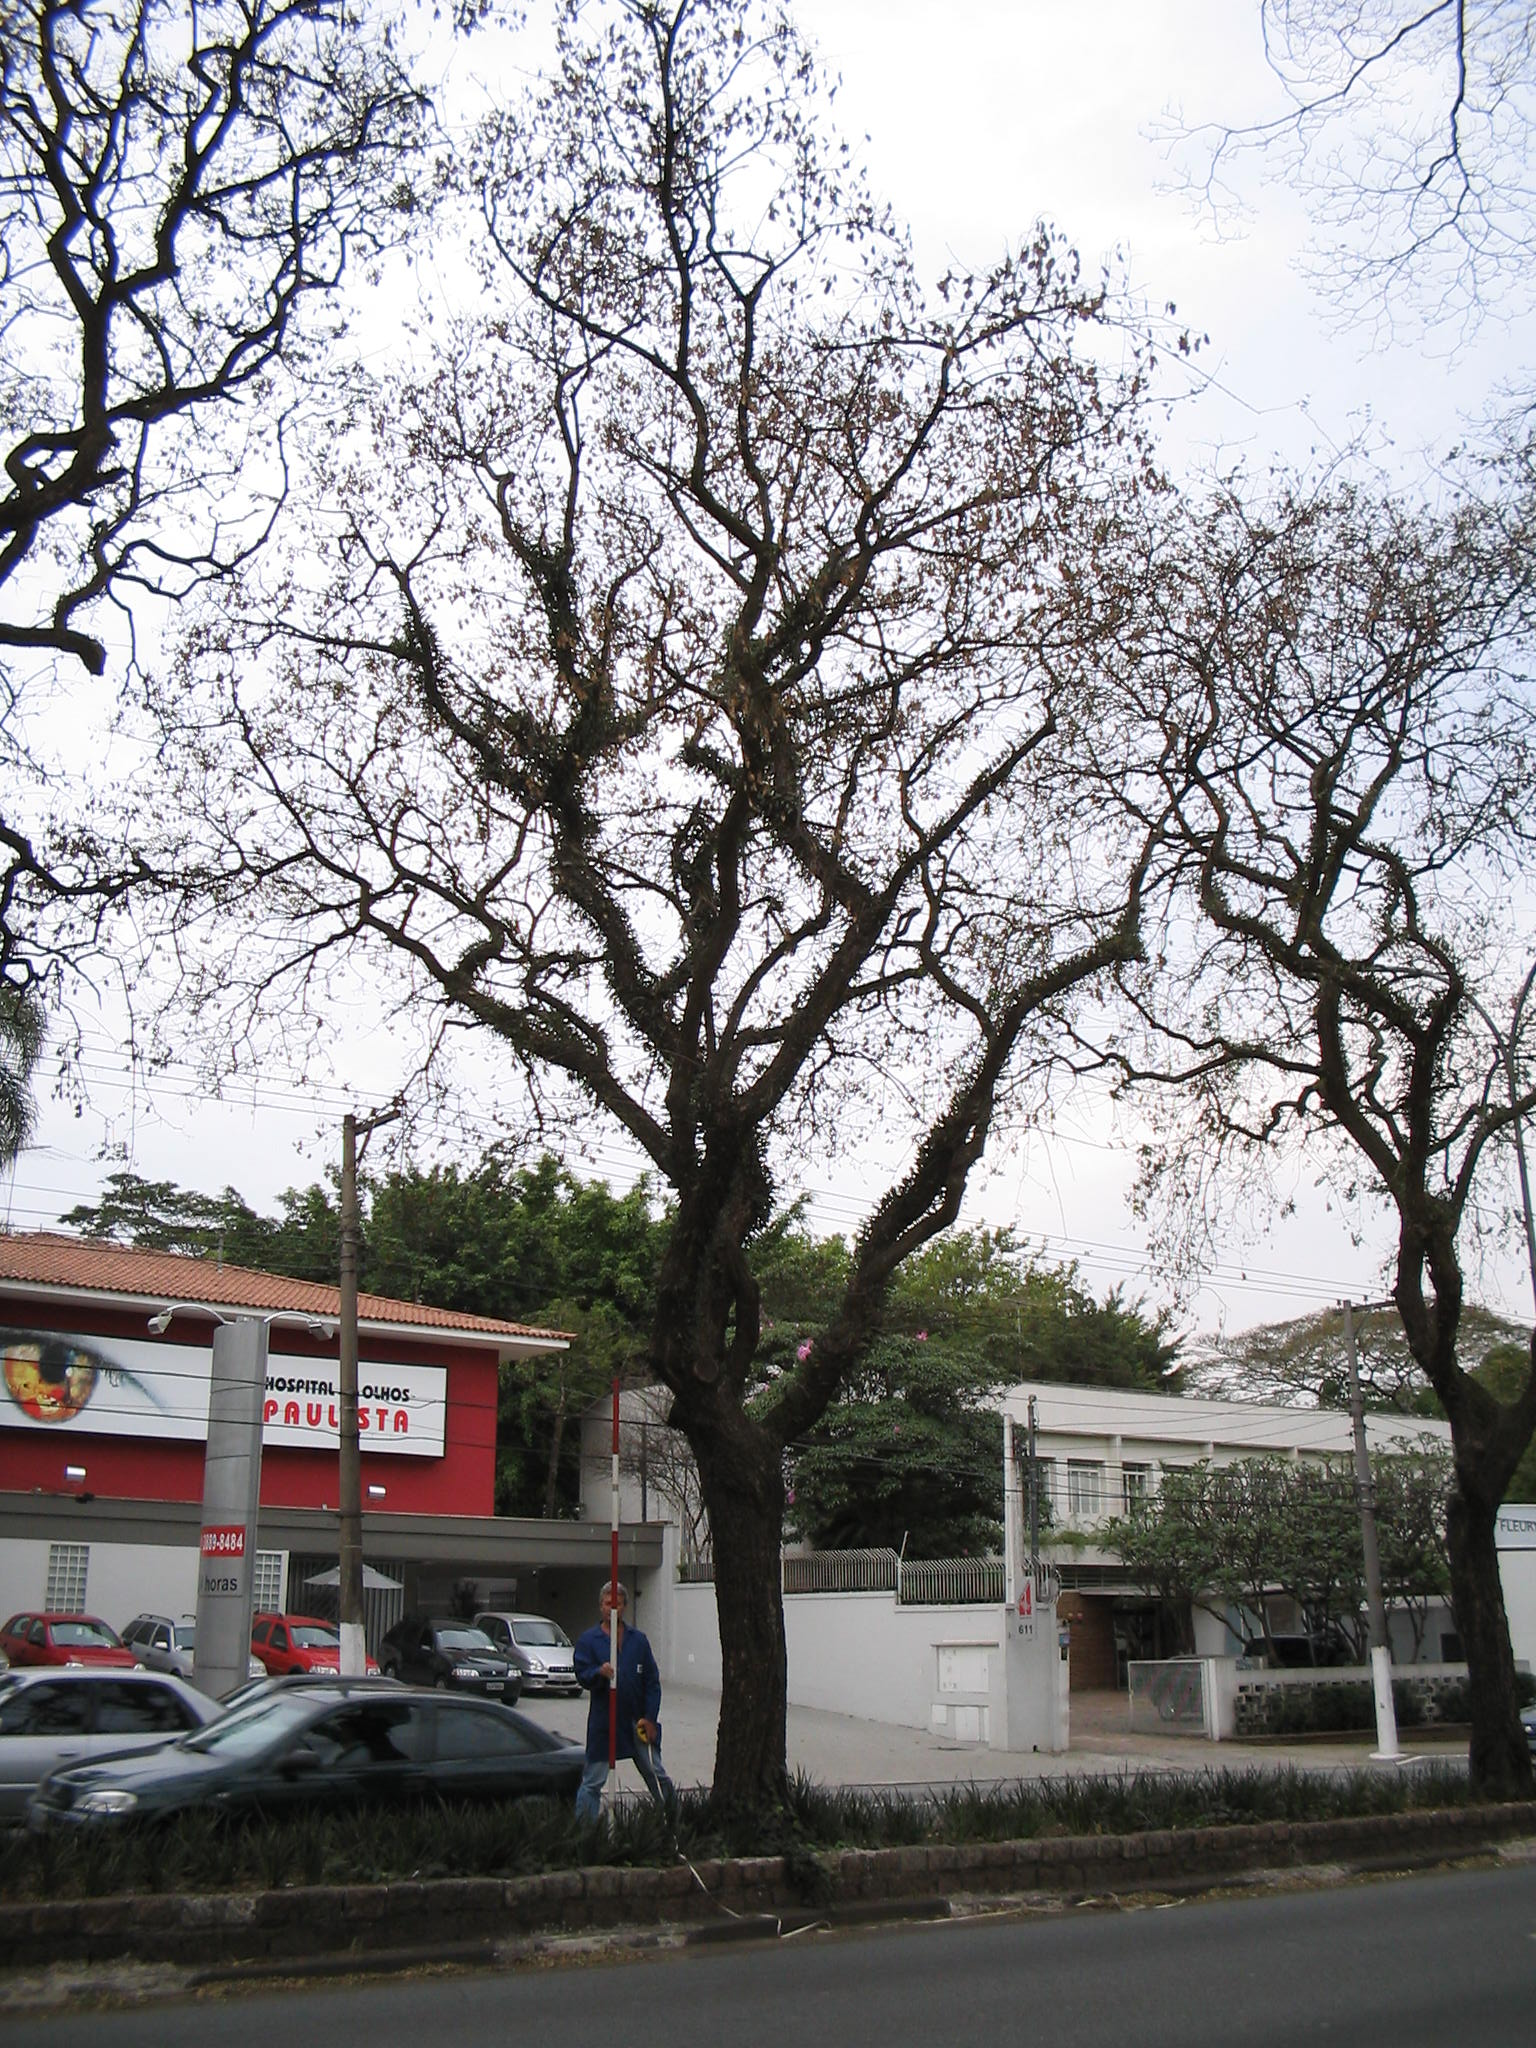stem: (653, 1424, 865, 1850), (1399, 1413, 1533, 1803)
stick: (578, 1379, 652, 1853)
tree: (165, 5, 1302, 1853), (1191, 455, 1536, 1811)
